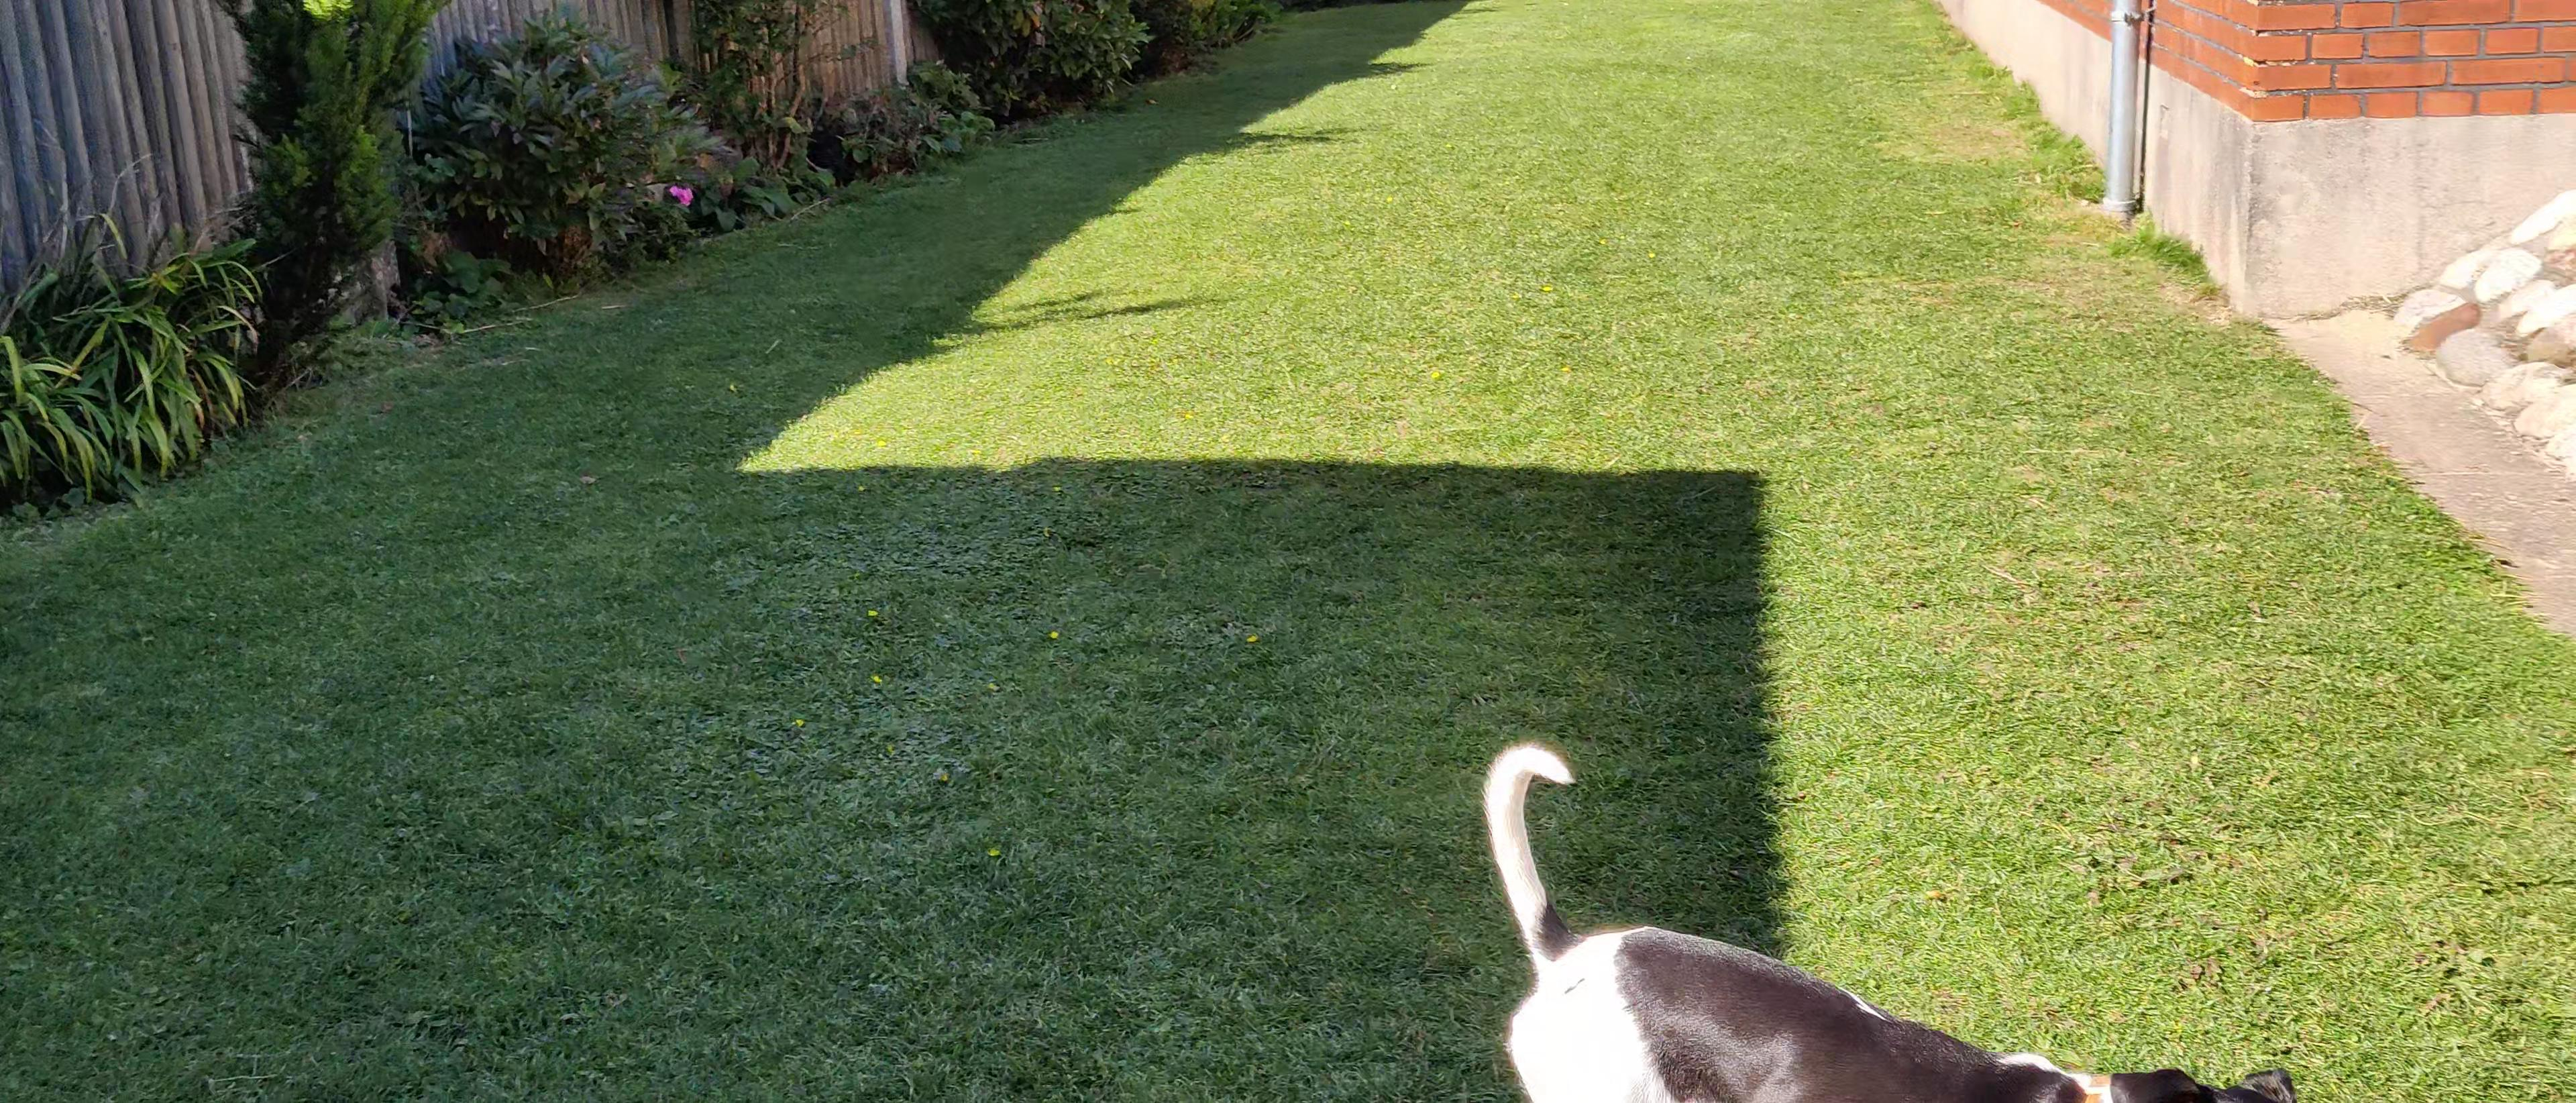Dog: (1479, 738, 2303, 1103)
